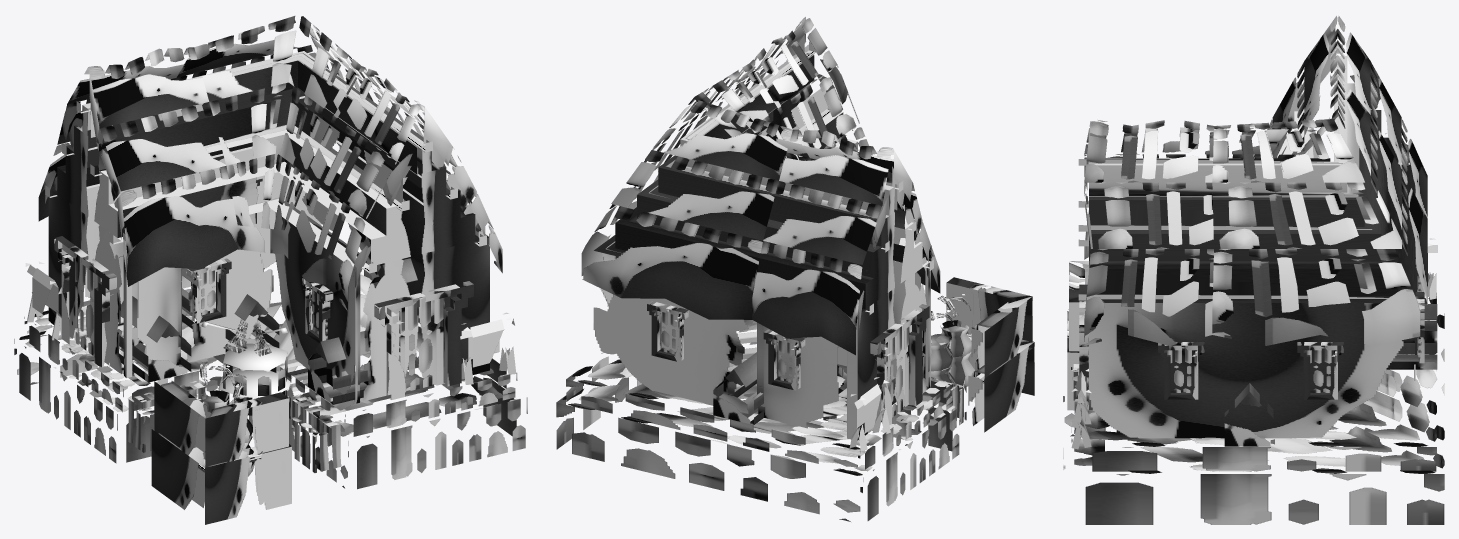
The model's file is storehouse.dae.
The picture shows the model from 3 angles, left to right: view 1: azimuth 30°, elevation 25°; view 2: azimuth 150°, elevation 25°; view 3: azimuth 270°, elevation 25°; orthographic projection. The views are drawn at different scales.
Visible parts, largest first — view 1: storehouse; view 2: storehouse; view 3: storehouse.
Boxes of the visible parts, x1,y1,x2,y2 form: storehouse: [14, 16, 527, 524]; storehouse: [556, 17, 1034, 521]; storehouse: [1063, 16, 1444, 524].
Size of the model in its own units: 12.67 by 12.72 by 13.31.
